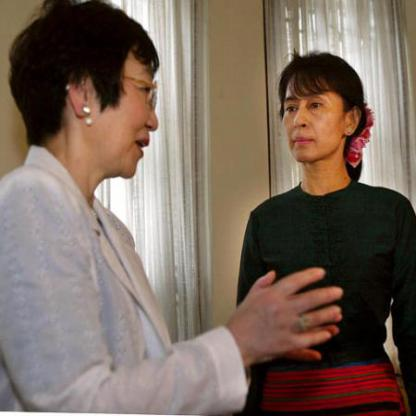face: (278, 57, 349, 167)
